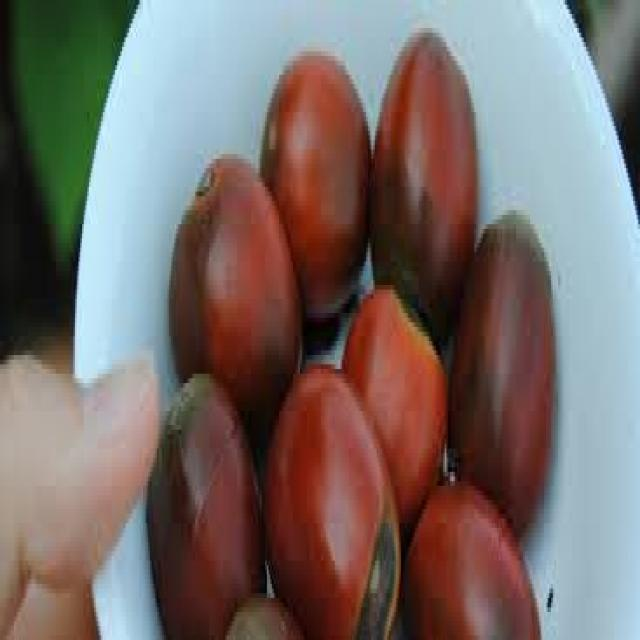organic waste: (168, 154, 306, 430), (262, 360, 399, 635), (448, 201, 551, 532), (366, 37, 474, 332), (145, 369, 263, 635), (260, 47, 370, 322), (340, 280, 450, 538), (403, 472, 539, 635), (223, 584, 302, 635)
